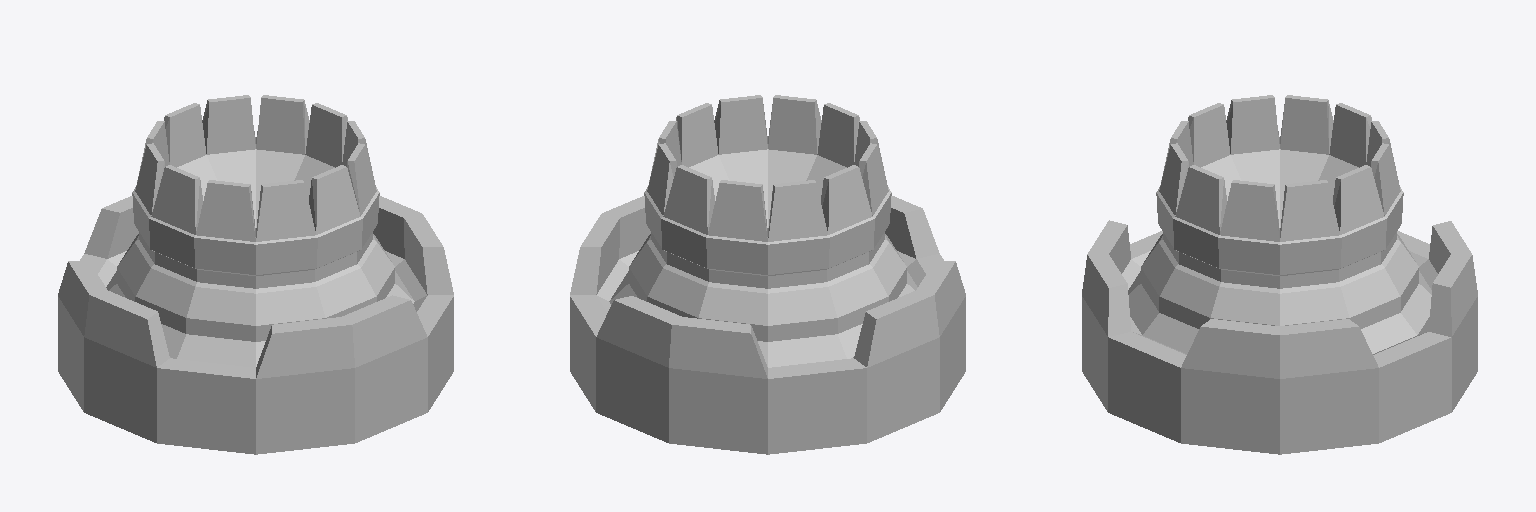
Rendered from thrusterSmallExt.obj.
3 renders of one model, left to right at view 1: azimuth 30°, elevation 25°; view 2: azimuth 150°, elevation 25°; view 3: azimuth 270°, elevation 25°, orthographic.
Parts seen in each view (by area): view 1: thrusterSmall_Cylinder.015; view 2: thrusterSmall_Cylinder.015; view 3: thrusterSmall_Cylinder.015.
Boxes of the visible parts, x1,y1,x2,y2 form: thrusterSmall_Cylinder.015: [58, 95, 453, 454]; thrusterSmall_Cylinder.015: [570, 95, 965, 454]; thrusterSmall_Cylinder.015: [1082, 95, 1477, 454].
Bounding box in the file's own units: 0.5908 × 0.3773 × 0.5908.